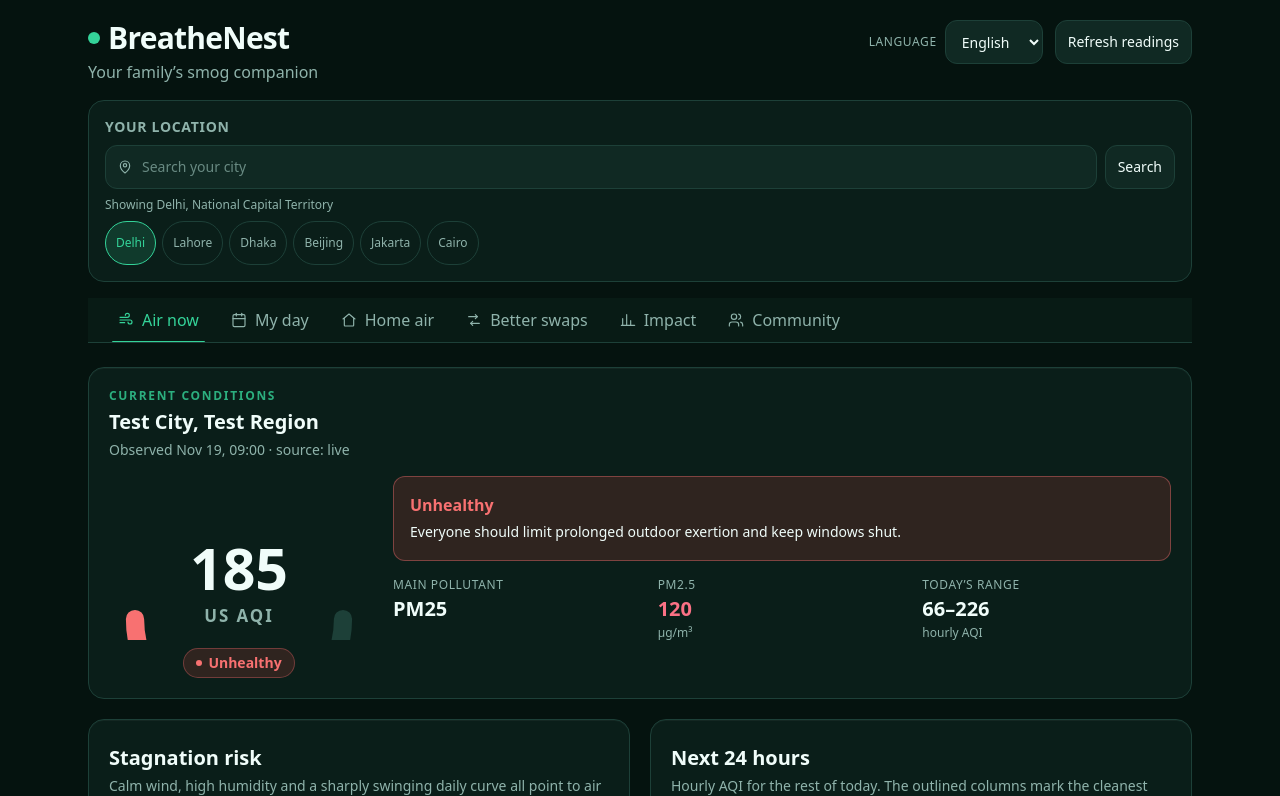
Test: community tab › states the care pledge has no emission figure
Click the tab "Community": (784, 320) [714,298,854,342]
(page scrolled)
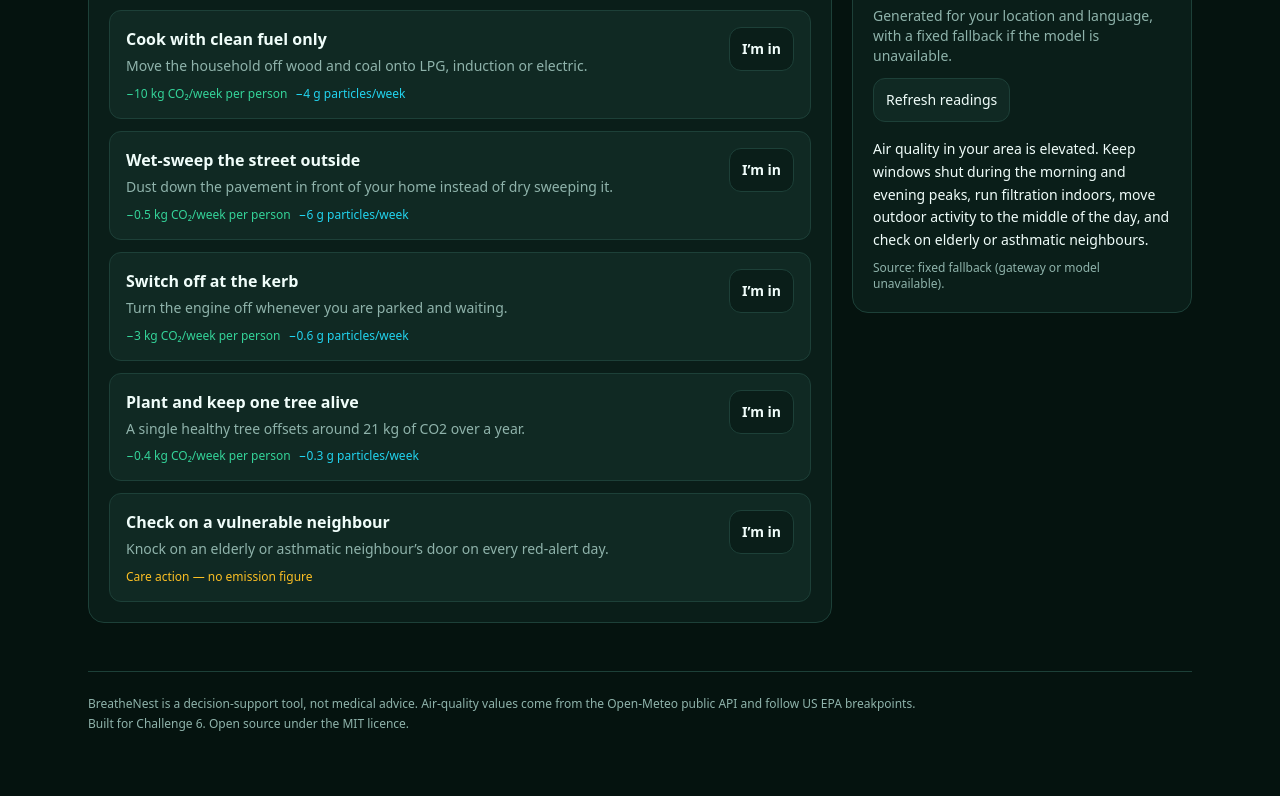
Expected: the text "Care action — no emission figure" is shown, [126,568,312,585]
